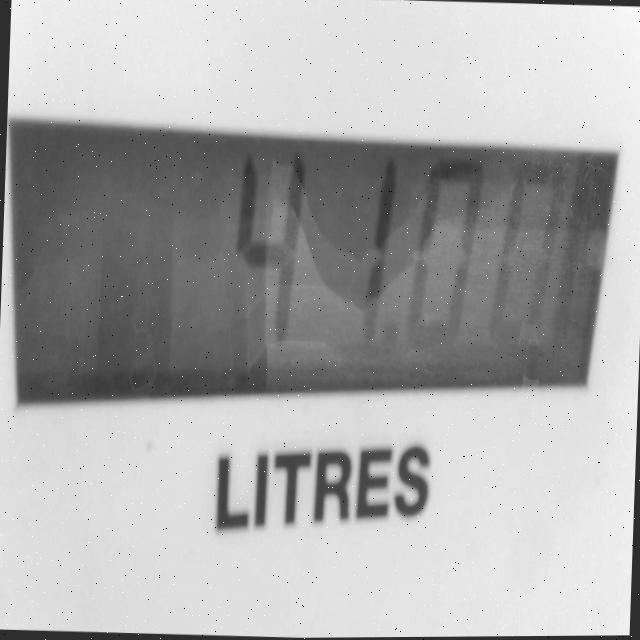.: (378, 308, 412, 386)
0: (412, 147, 484, 359), (488, 153, 558, 354)
1: (343, 159, 398, 367)
4: (228, 149, 304, 357)
